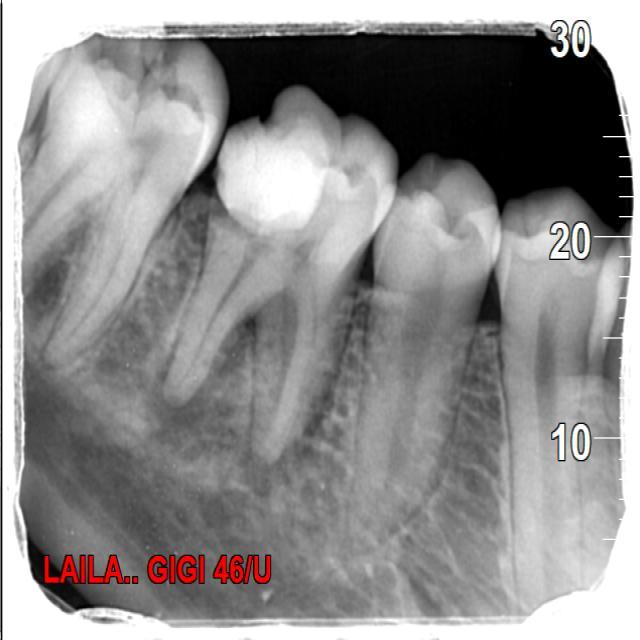individual-tooth-8tto: (156, 82, 391, 469), (42, 27, 228, 377), (346, 154, 501, 545), (497, 242, 577, 637)
